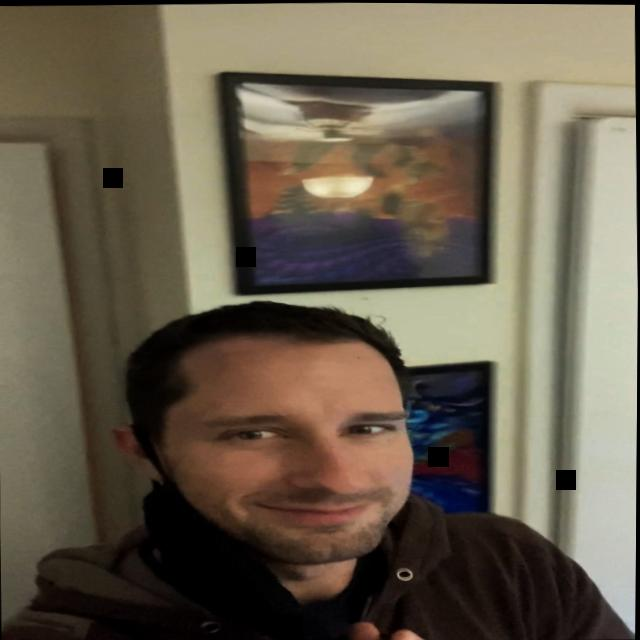NO-Mask: (125, 309, 423, 588)
